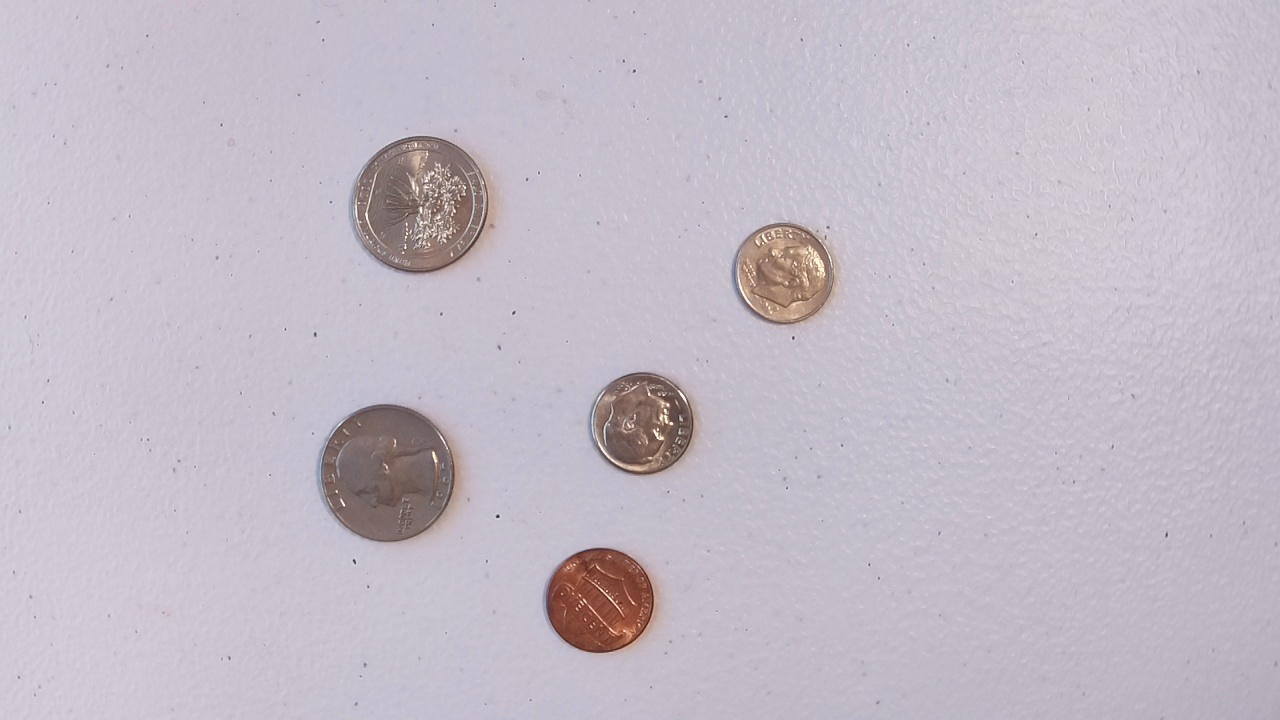dime: (586, 370, 696, 476), (730, 220, 840, 326)
penny: (544, 545, 658, 655)
quarter: (314, 400, 458, 544), (348, 133, 490, 275)
